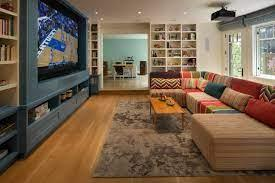TV: (38, 1, 81, 72)
chair: (113, 65, 124, 81)
door: (224, 30, 245, 79)
light: (92, 7, 99, 17), (99, 16, 106, 24), (182, 8, 187, 15), (136, 10, 141, 14)
sofa: (146, 69, 275, 172)
table: (147, 95, 185, 130), (111, 62, 136, 81), (90, 73, 101, 95), (139, 58, 149, 77), (104, 58, 108, 75)
